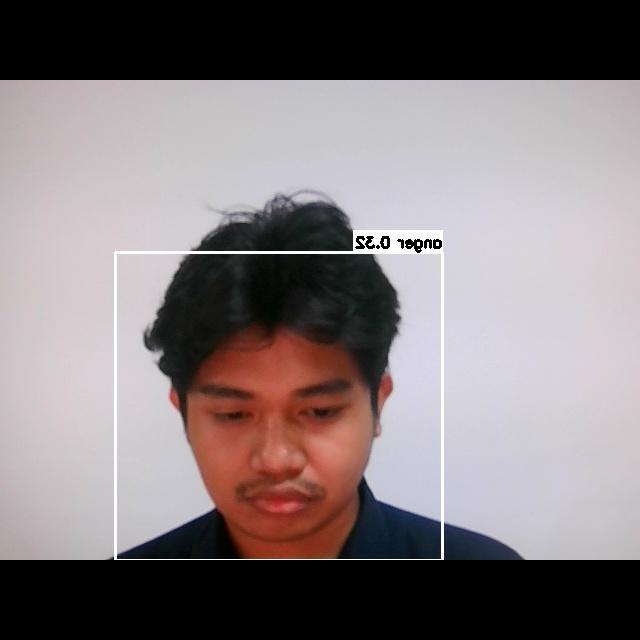Natural: (190, 368, 363, 529)
